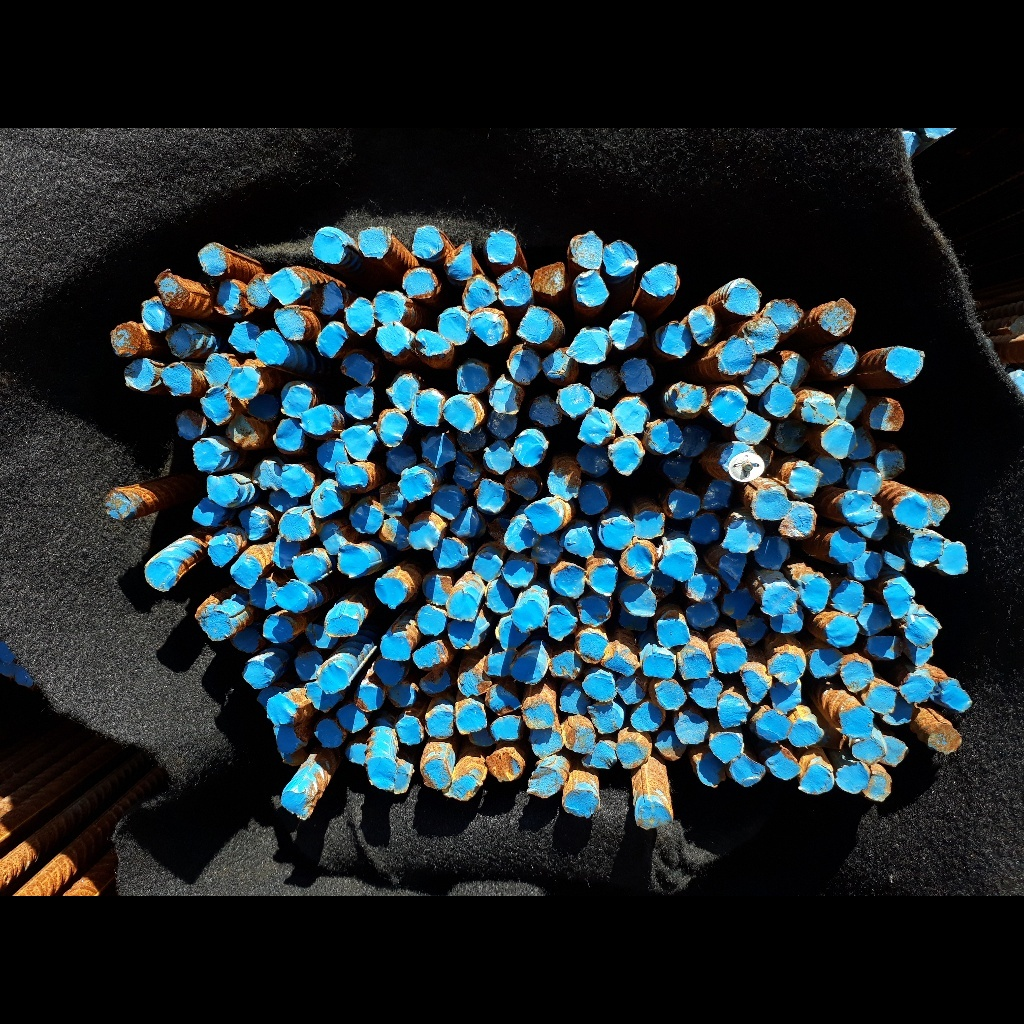dipstick: (721, 442, 765, 483), (716, 334, 755, 376), (226, 414, 269, 451), (885, 346, 925, 385), (524, 496, 564, 535), (567, 326, 608, 364), (708, 389, 748, 427), (516, 305, 554, 344), (797, 573, 832, 615), (655, 321, 693, 359), (641, 261, 680, 298), (892, 490, 931, 527), (761, 581, 800, 618), (613, 397, 650, 436), (721, 520, 763, 554), (818, 300, 856, 337), (266, 268, 304, 305), (602, 640, 641, 676), (550, 560, 586, 599), (497, 267, 533, 306), (609, 310, 644, 350), (547, 461, 582, 501), (469, 311, 509, 346), (741, 359, 778, 396), (743, 316, 780, 353), (603, 239, 639, 277), (724, 279, 762, 315), (199, 387, 234, 426), (386, 372, 419, 413), (909, 532, 945, 569), (729, 752, 765, 789), (577, 409, 613, 446), (442, 395, 477, 433), (903, 615, 942, 649), (763, 299, 803, 332), (937, 678, 973, 714), (829, 527, 865, 563), (618, 357, 654, 393), (762, 382, 797, 419), (765, 746, 802, 781), (650, 418, 684, 456), (156, 271, 189, 310), (510, 436, 550, 468), (822, 424, 857, 460), (504, 517, 539, 553), (254, 331, 289, 367), (734, 411, 771, 445), (786, 466, 823, 500), (620, 583, 657, 617), (571, 230, 604, 268), (315, 321, 348, 359), (668, 382, 707, 414), (345, 296, 375, 337), (869, 397, 904, 432), (508, 350, 543, 385), (511, 598, 546, 633), (832, 579, 866, 615), (778, 505, 814, 539), (561, 716, 595, 752), (768, 652, 805, 685), (672, 712, 709, 745), (576, 270, 609, 307), (587, 701, 625, 733), (717, 553, 748, 592), (613, 439, 644, 478), (840, 659, 875, 693), (716, 694, 750, 729), (420, 434, 455, 468), (310, 281, 344, 316), (227, 366, 262, 400), (821, 343, 857, 376), (754, 487, 790, 520), (756, 710, 792, 743), (495, 617, 531, 650), (447, 238, 474, 282), (433, 537, 469, 570), (298, 402, 334, 435), (411, 389, 443, 426), (281, 381, 313, 418), (526, 767, 564, 798), (840, 705, 874, 739), (777, 355, 811, 389), (559, 384, 594, 417), (470, 313, 505, 346), (437, 311, 470, 346), (358, 227, 393, 260), (834, 762, 870, 794), (621, 544, 653, 580), (546, 605, 578, 641), (373, 291, 405, 327), (282, 462, 314, 498), (835, 385, 866, 422), (688, 304, 715, 346), (774, 419, 807, 453), (755, 536, 788, 570), (337, 545, 370, 579), (340, 427, 373, 461), (311, 232, 345, 265), (228, 320, 261, 354), (122, 358, 155, 392), (801, 394, 836, 426), (927, 723, 962, 755), (688, 677, 723, 709), (582, 670, 617, 702), (533, 261, 565, 296), (161, 362, 193, 397), (709, 732, 745, 763), (488, 373, 519, 409), (444, 768, 480, 799), (307, 682, 343, 713), (657, 552, 694, 582), (722, 586, 755, 619), (464, 277, 497, 310), (377, 324, 410, 357), (548, 648, 582, 680), (412, 226, 444, 260), (318, 522, 350, 556), (273, 306, 305, 340), (201, 352, 233, 386), (191, 439, 223, 473), (109, 323, 141, 357), (798, 764, 833, 795), (458, 667, 493, 698), (486, 751, 522, 781), (412, 639, 448, 669), (165, 323, 195, 359), (899, 675, 936, 704), (380, 412, 409, 449), (291, 555, 328, 584), (271, 586, 309, 614), (858, 603, 891, 635), (826, 615, 859, 647), (420, 757, 453, 789), (375, 577, 407, 610), (316, 662, 349, 694), (206, 473, 238, 506), (679, 650, 713, 681), (653, 679, 687, 710), (601, 518, 635, 549), (578, 596, 612, 627), (522, 698, 556, 729), (398, 473, 432, 504), (379, 517, 410, 551), (938, 540, 968, 575), (842, 493, 877, 523), (848, 551, 883, 581), (487, 684, 522, 714), (740, 669, 769, 705), (564, 789, 600, 818), (581, 740, 617, 769), (415, 328, 452, 356), (812, 455, 844, 487), (471, 549, 503, 581), (342, 354, 374, 386), (809, 648, 842, 679), (770, 680, 801, 713), (715, 643, 748, 674), (701, 480, 732, 513), (675, 426, 708, 457), (577, 445, 611, 475), (579, 482, 609, 516), (476, 479, 506, 513), (350, 504, 384, 534), (317, 441, 351, 471), (657, 618, 692, 647), (697, 753, 726, 788), (191, 498, 226, 527), (446, 589, 477, 621), (423, 575, 454, 607), (386, 444, 417, 476), (274, 419, 305, 451), (848, 466, 881, 496), (864, 684, 897, 714), (862, 770, 892, 803), (654, 730, 687, 760), (449, 505, 479, 538), (345, 387, 375, 420), (487, 230, 516, 264), (787, 721, 824, 747), (669, 488, 700, 519), (431, 490, 462, 521), (144, 561, 175, 592), (564, 526, 594, 558), (529, 396, 561, 426), (630, 702, 662, 732), (313, 489, 345, 519), (273, 723, 305, 753), (253, 459, 283, 491), (142, 301, 172, 333), (589, 563, 618, 596), (367, 757, 396, 790), (882, 585, 910, 619), (638, 803, 673, 830), (403, 271, 438, 298), (634, 509, 665, 539), (688, 516, 720, 545), (579, 631, 611, 660), (541, 347, 570, 379), (457, 364, 489, 393), (239, 509, 268, 541), (867, 636, 904, 661), (852, 738, 885, 766), (686, 574, 719, 602), (306, 621, 339, 649), (266, 695, 299, 723), (242, 662, 275, 690), (273, 536, 301, 569), (198, 243, 226, 276), (208, 535, 236, 568), (482, 649, 517, 675), (281, 790, 311, 820), (201, 611, 231, 641), (176, 411, 206, 441), (456, 704, 487, 733), (337, 704, 368, 733), (295, 650, 324, 681), (249, 579, 278, 610), (530, 729, 562, 757), (408, 523, 440, 551), (262, 616, 294, 644), (104, 490, 132, 522), (501, 560, 534, 587), (685, 601, 719, 627), (335, 462, 369, 488), (844, 431, 874, 460), (450, 621, 480, 650), (876, 447, 904, 478), (418, 605, 446, 636), (315, 718, 343, 749), (882, 736, 909, 768), (373, 660, 405, 687), (279, 513, 311, 540), (642, 652, 675, 678), (426, 710, 455, 739), (883, 697, 913, 725), (882, 542, 909, 573), (735, 618, 766, 645), (560, 683, 587, 714), (532, 536, 563, 563), (616, 676, 645, 704), (617, 740, 645, 769), (489, 409, 518, 437), (512, 655, 541, 683), (484, 446, 513, 474), (354, 685, 384, 712), (380, 635, 411, 661), (856, 515, 888, 540), (215, 283, 240, 315), (324, 615, 360, 637), (380, 488, 406, 518), (249, 393, 279, 419), (663, 455, 691, 482), (591, 369, 617, 398), (231, 627, 260, 653), (455, 426, 485, 451), (419, 671, 451, 694), (395, 717, 421, 745), (247, 277, 270, 308), (454, 463, 480, 490), (491, 716, 520, 740), (929, 492, 950, 525), (768, 614, 804, 633), (231, 563, 258, 588), (387, 685, 416, 708), (903, 645, 934, 666), (270, 490, 298, 511), (258, 686, 287, 706), (345, 742, 367, 766), (889, 577, 915, 597), (511, 477, 537, 497), (393, 766, 410, 795), (281, 751, 305, 766)
